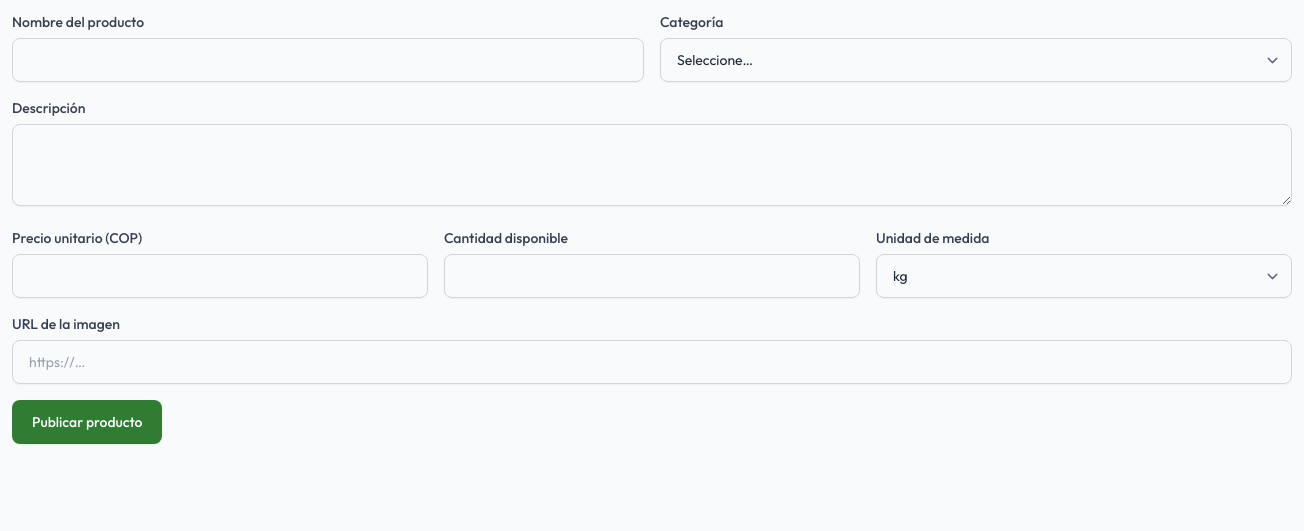
Test case: ProductForm › RTL-07 datos válidos envían el producto con números y muestran mensaje de éxito
Type "Café especial" into the field labelled "Nombre del producto" at [328, 60], box [12,38,644,82]
Select "Café" in the dropdown labelled "Categoría" at [976, 60], box [660,38,1292,82]
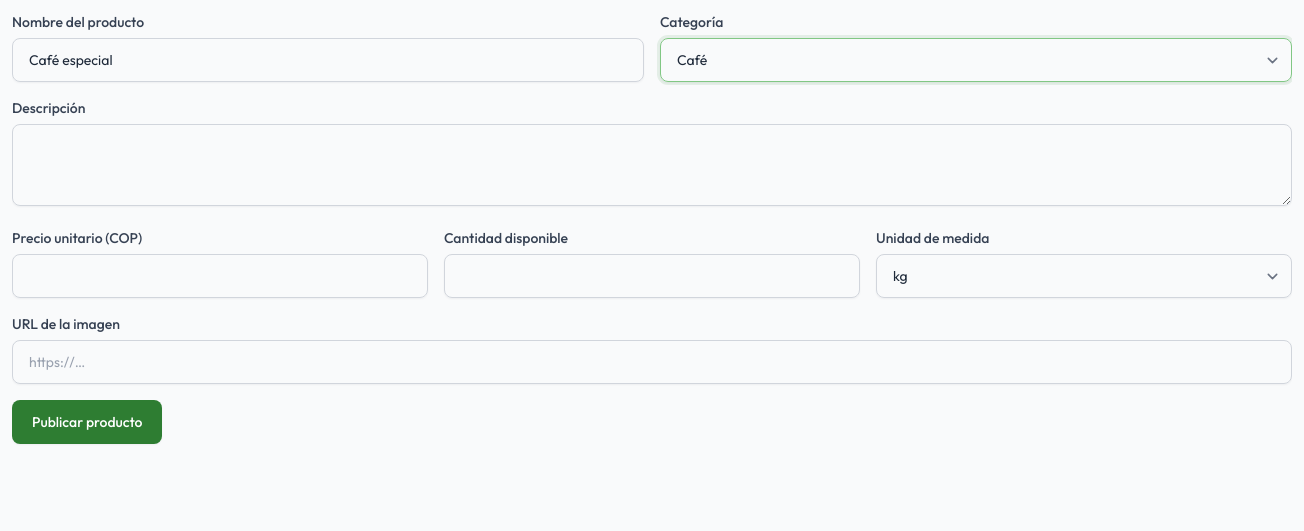
Type "Café de altura, proceso lavado" into the text box labelled "Descripción" at [652, 165], box [12,124,1292,206]
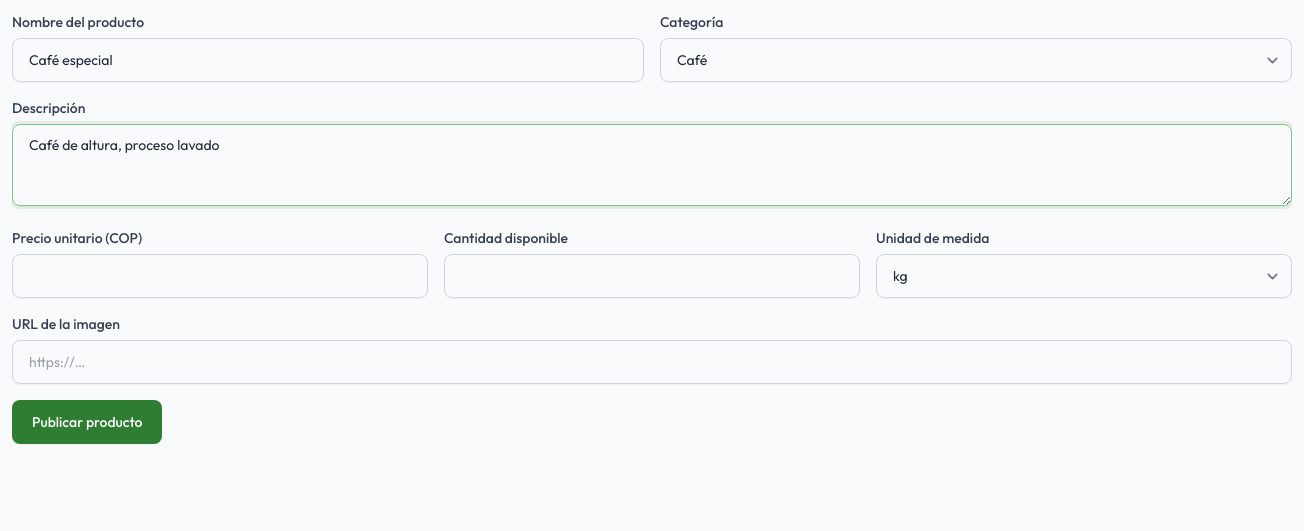
Type "18000" into the field labelled "Precio unitario (COP)" at [220, 276], box [12,254,428,298]
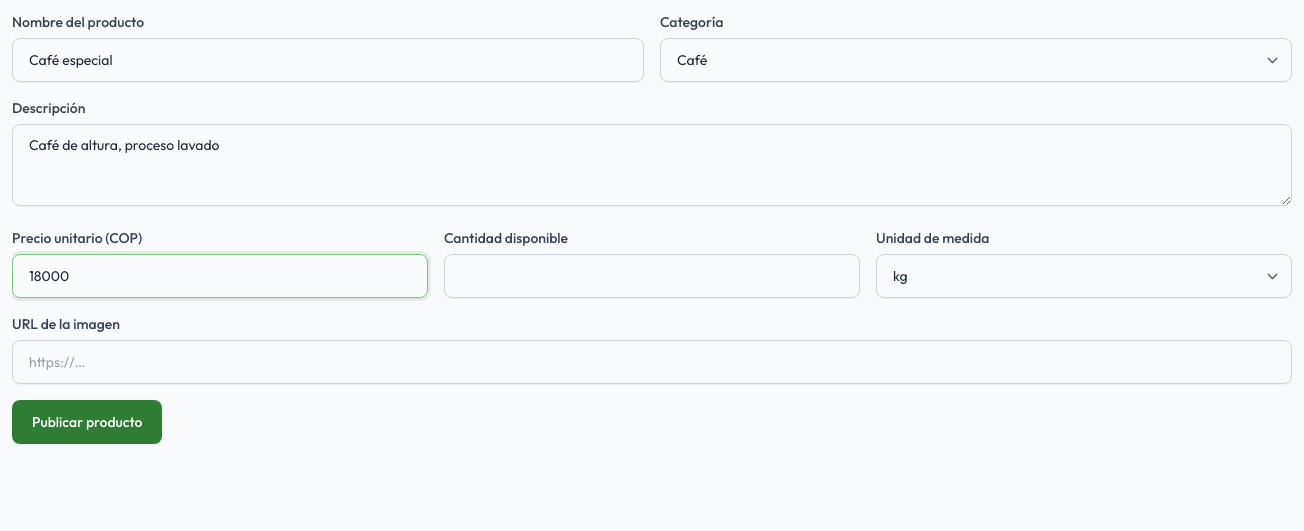
Type "120" into the field labelled "Cantidad disponible" at [652, 276], box [444,254,860,298]
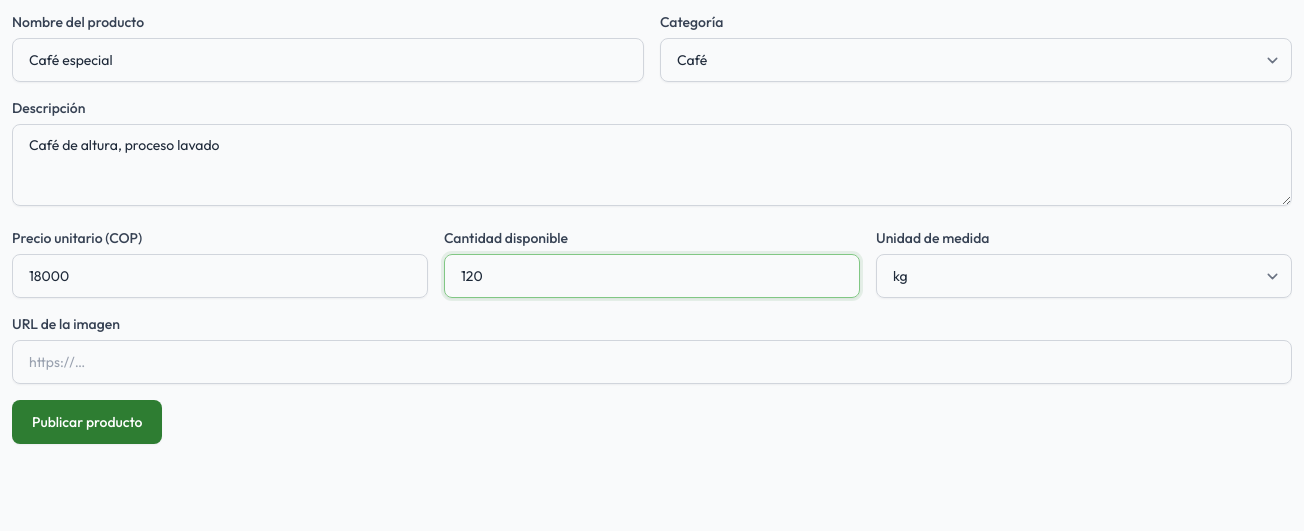
Type "/productos/cafe.svg" into the field labelled "URL de la imagen" at [652, 362], box [12,340,1292,384]
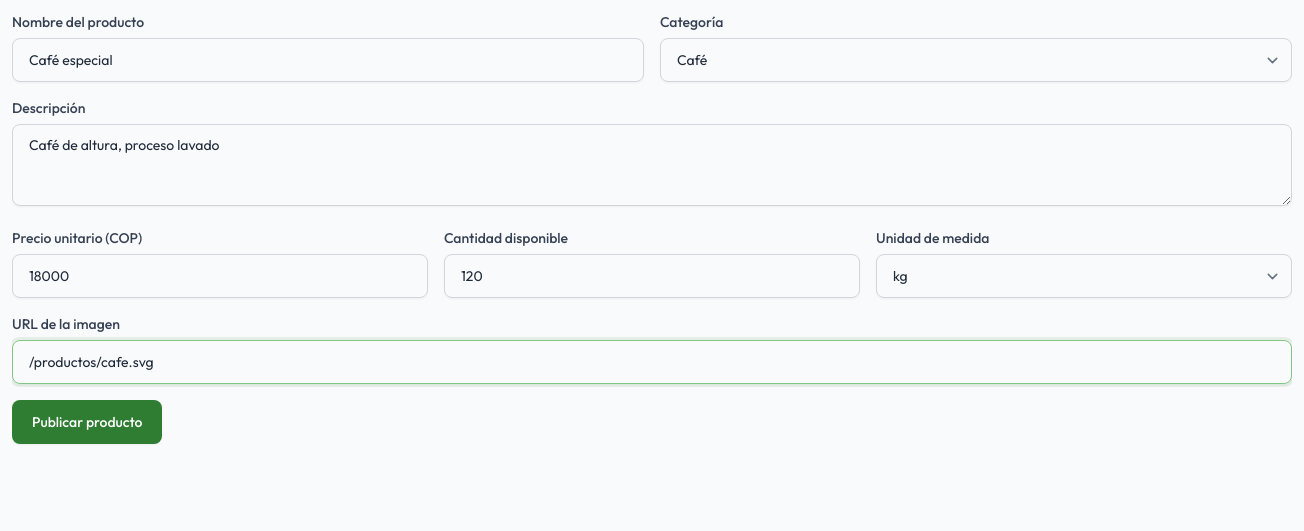
Click the button "Publicar producto" at [87, 422], box [12,400,162,444]
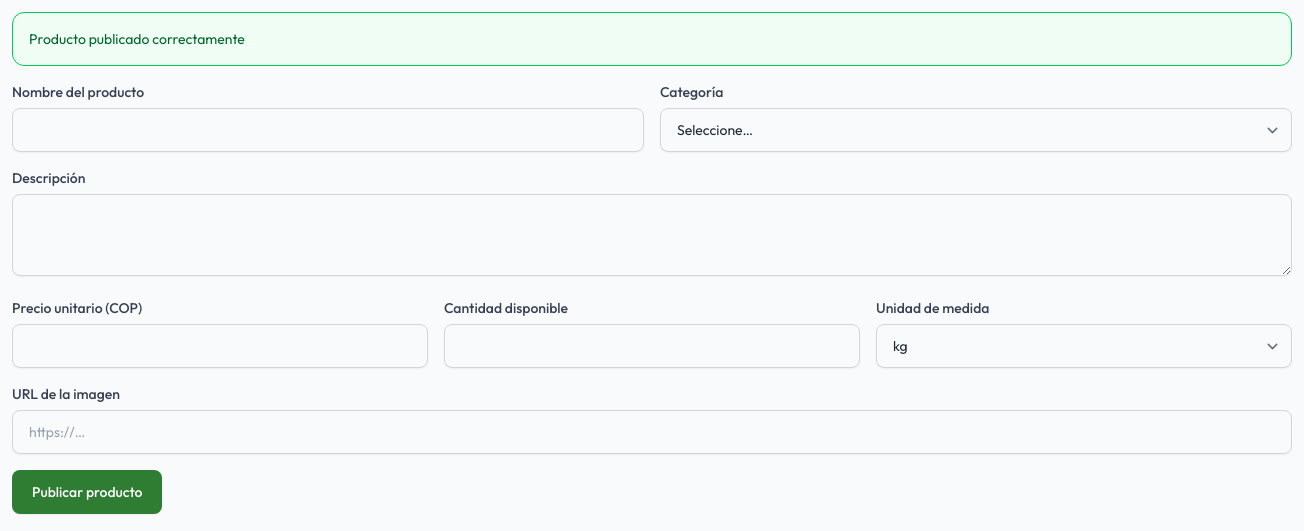
Expected: the text "Producto publicado correctamente" is shown, [12,12,1292,66]
